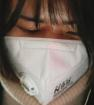with_mask: (1, 2, 94, 105)
